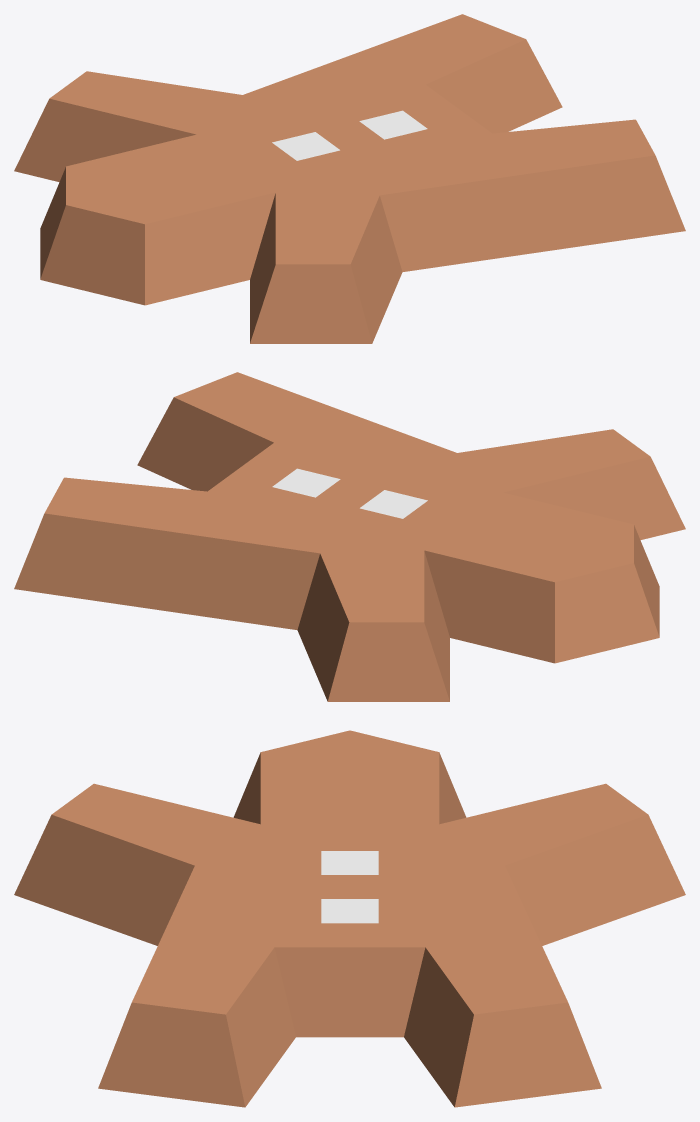
Rendered from gingerBread.fbx.
3 views of the same model, one above another, from view 1: azimuth 30°, elevation 25°; view 2: azimuth 150°, elevation 25°; view 3: azimuth 270°, elevation 25° (orthographic). The views are drawn at different scales.
Parts seen in each view (by area): view 1: gingerBread; view 2: gingerBread; view 3: gingerBread.
Part boxes in pixels (x1,y1,x2,y2): gingerBread: (14, 14, 685, 343); gingerBread: (14, 372, 685, 701); gingerBread: (14, 730, 685, 1107).
Size of the model in its own units: 2.6 by 0.3 by 2.36.
